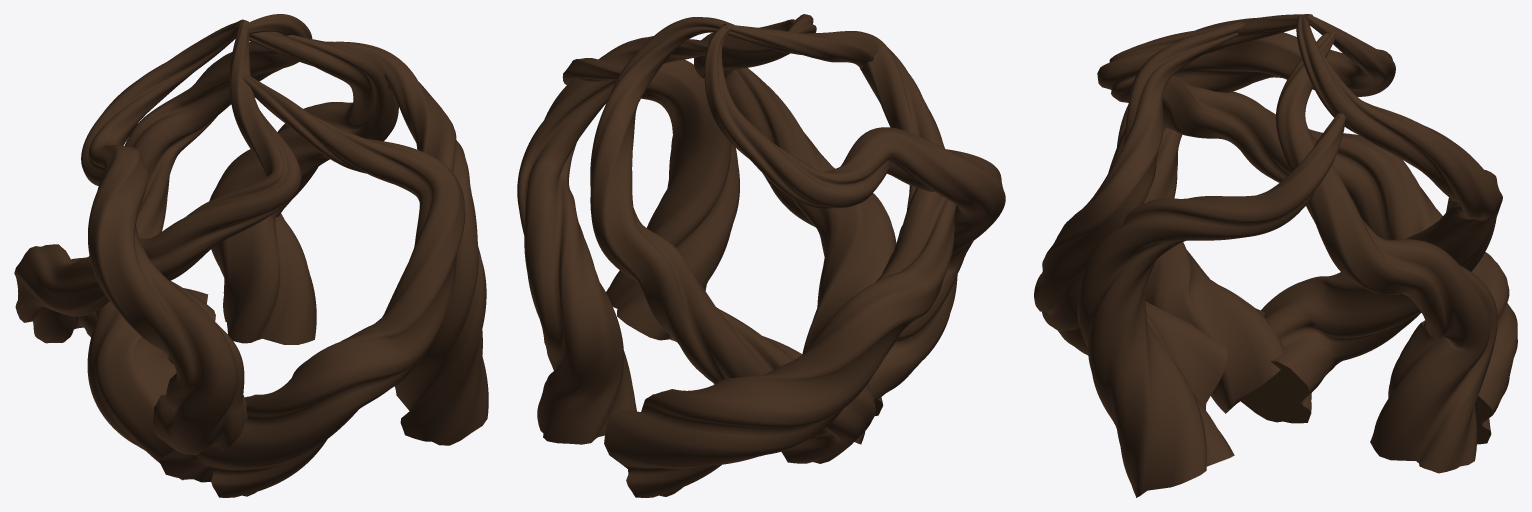
Rendered from Baumnest.fbx.
3 renders of one model, left to right at view 1: azimuth 30°, elevation 25°; view 2: azimuth 150°, elevation 25°; view 3: azimuth 270°, elevation 25°, orthographic. The views are drawn at different scales.
Visible parts, largest first — view 1: Icosphere.008; view 2: Icosphere.008; view 3: Icosphere.008.
Part boxes in pixels (x1=…): Icosphere.008: x1=14, y1=14, x2=488, y2=497; Icosphere.008: x1=517, y1=14, x2=1005, y2=497; Icosphere.008: x1=1034, y1=14, x2=1517, y2=497.
Bounding box in the file's own units: 549 × 562 × 533.
